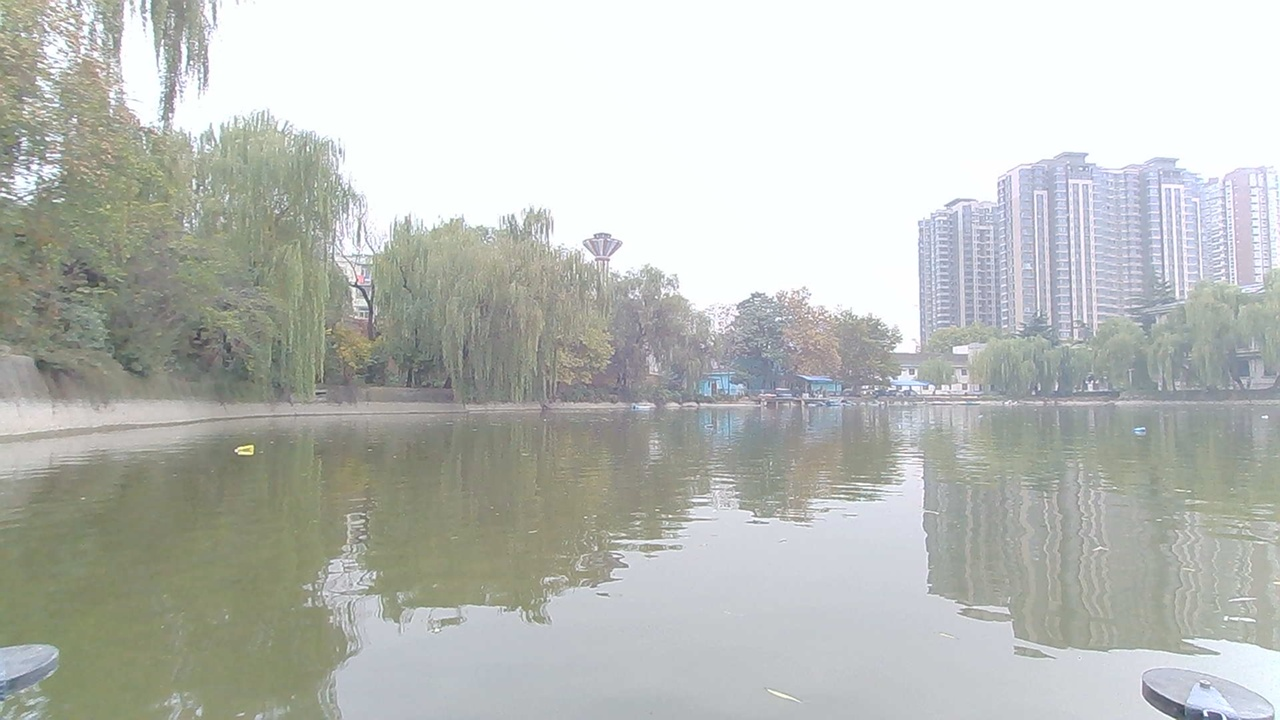bottle: (231, 438, 265, 461), (1127, 418, 1158, 441), (697, 420, 726, 435)
